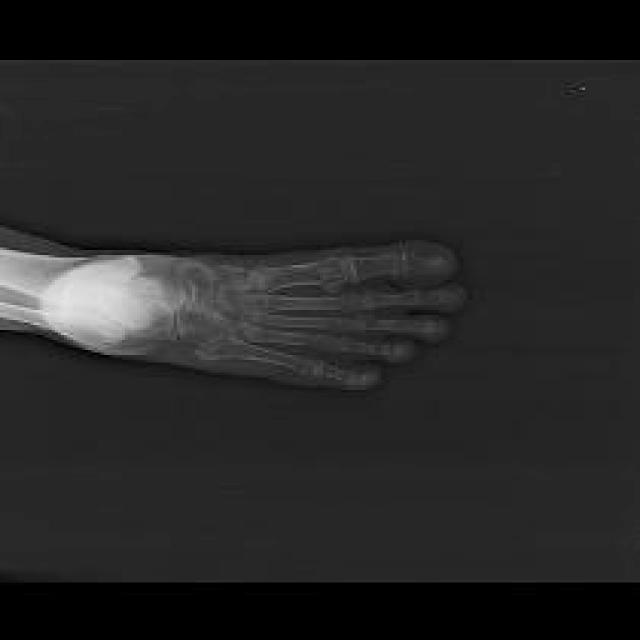normal: (2, 244, 463, 388)
